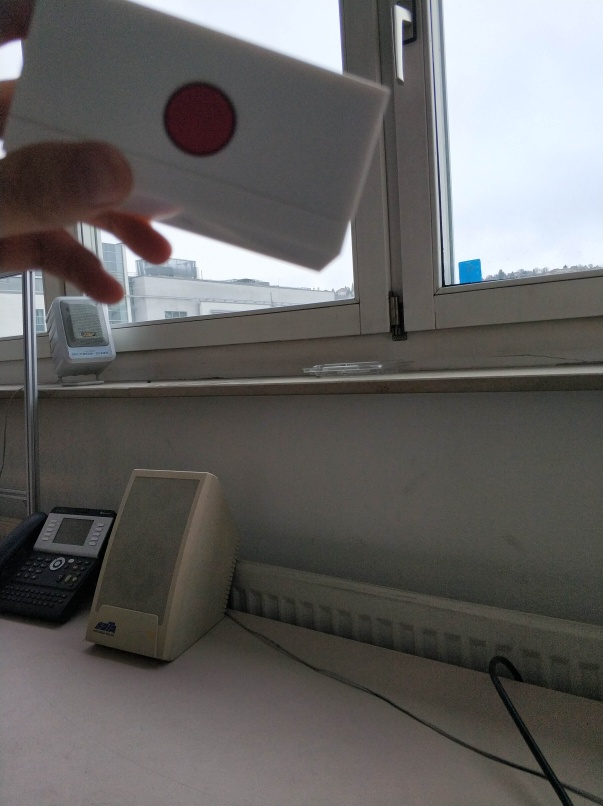white+white+red: (1, 1, 395, 276)
